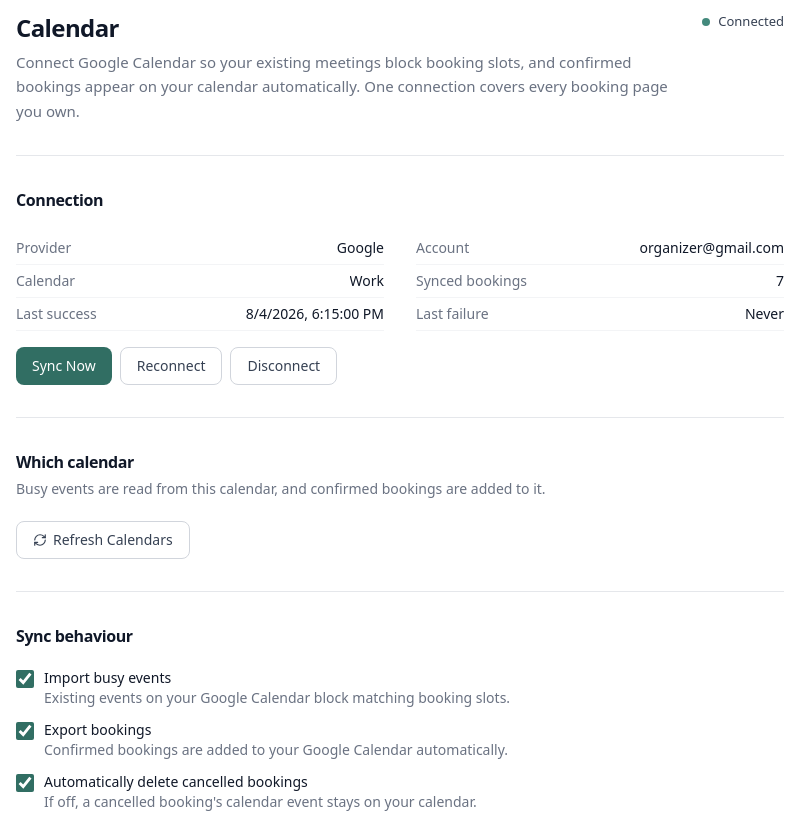
CalendarIntegrationPage › keeps a sync failure on screen instead of timing it out
Click the button "Sync Now".
click(64, 366)  # box [16,347,112,385]
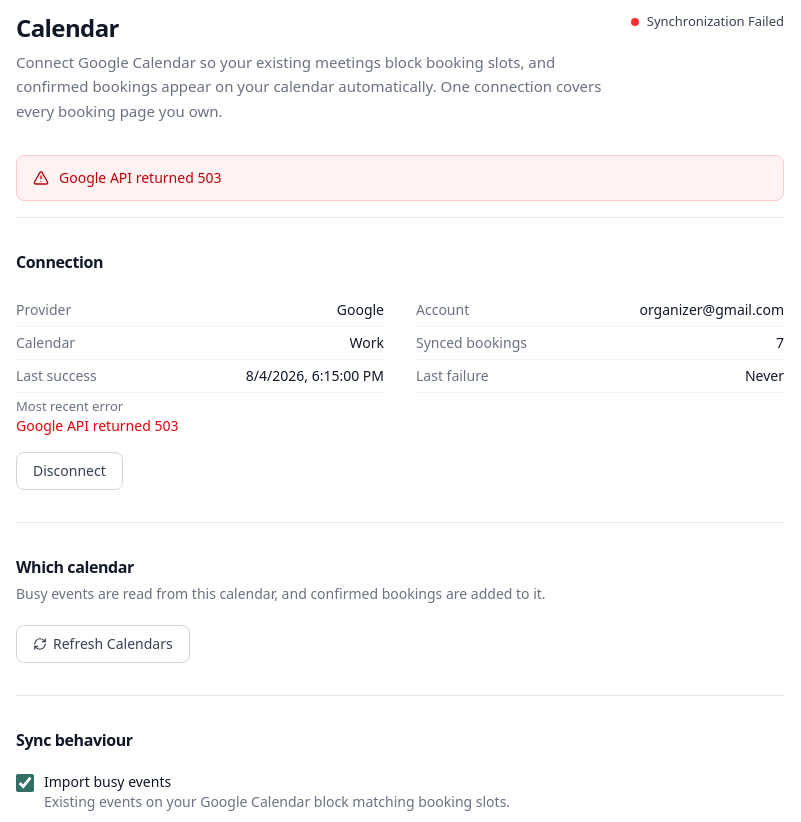
expect the message reads "Google API returned 503": met, box [59,168,221,187]
